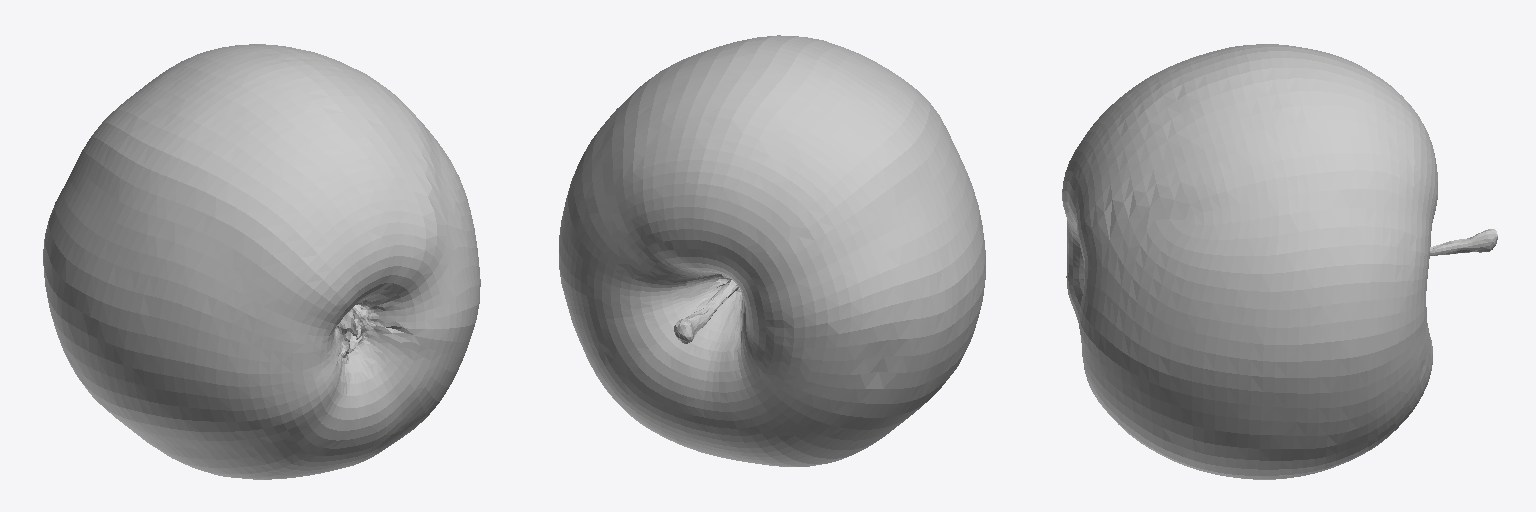
File: apple2_UV.OBJ
3 views of the same model, side by side, from view 1: azimuth 30°, elevation 25°; view 2: azimuth 150°, elevation 25°; view 3: azimuth 270°, elevation 25° (orthographic).
Visible parts, largest first — view 1: Apple2_RC_Remeshed:Group29071; view 2: Apple2_RC_Remeshed:Group29071; view 3: Apple2_RC_Remeshed:Group29071.
Part boxes in pixels (x1,y1,x2,y2): Apple2_RC_Remeshed:Group29071: (43,44,480,479); Apple2_RC_Remeshed:Group29071: (559,35,985,466); Apple2_RC_Remeshed:Group29071: (1062,44,1497,479).
Size of the model in its own units: 20.26 by 20.17 by 20.27.